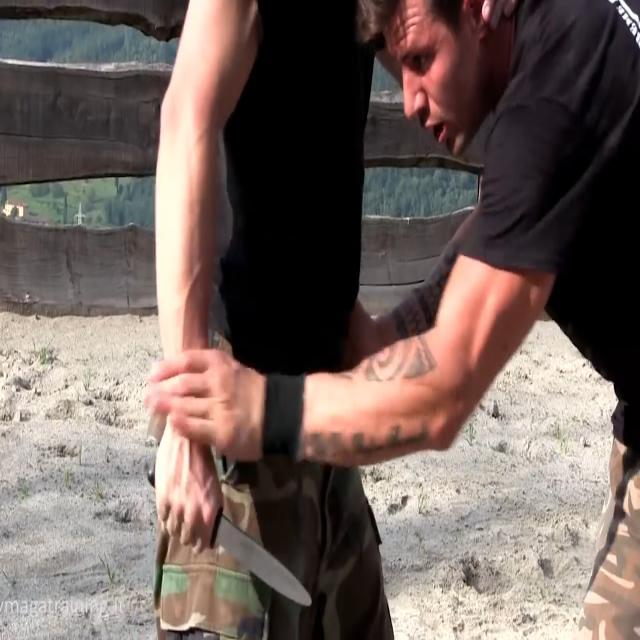knife: (221, 512, 315, 623)
